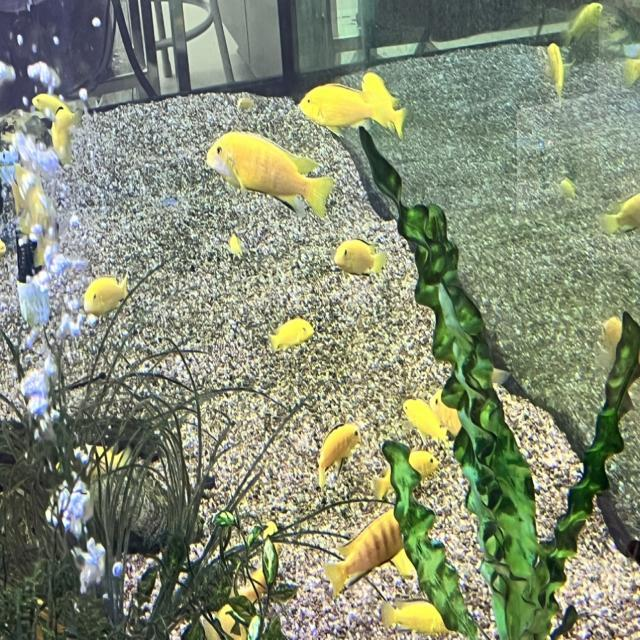YellowCichlid: (208, 132, 344, 218), (326, 502, 432, 576), (303, 413, 366, 495), (304, 76, 408, 125), (379, 590, 476, 640), (378, 451, 454, 501), (78, 278, 154, 316), (362, 68, 403, 138), (332, 236, 397, 280), (601, 182, 640, 254), (398, 393, 446, 443), (554, 1, 616, 39), (259, 318, 324, 350), (536, 41, 564, 113), (50, 118, 85, 174), (216, 94, 268, 122), (552, 170, 584, 210), (28, 88, 82, 111), (216, 232, 250, 268), (264, 510, 284, 562), (603, 316, 623, 346), (446, 408, 466, 435), (238, 570, 264, 590), (623, 59, 640, 83)
